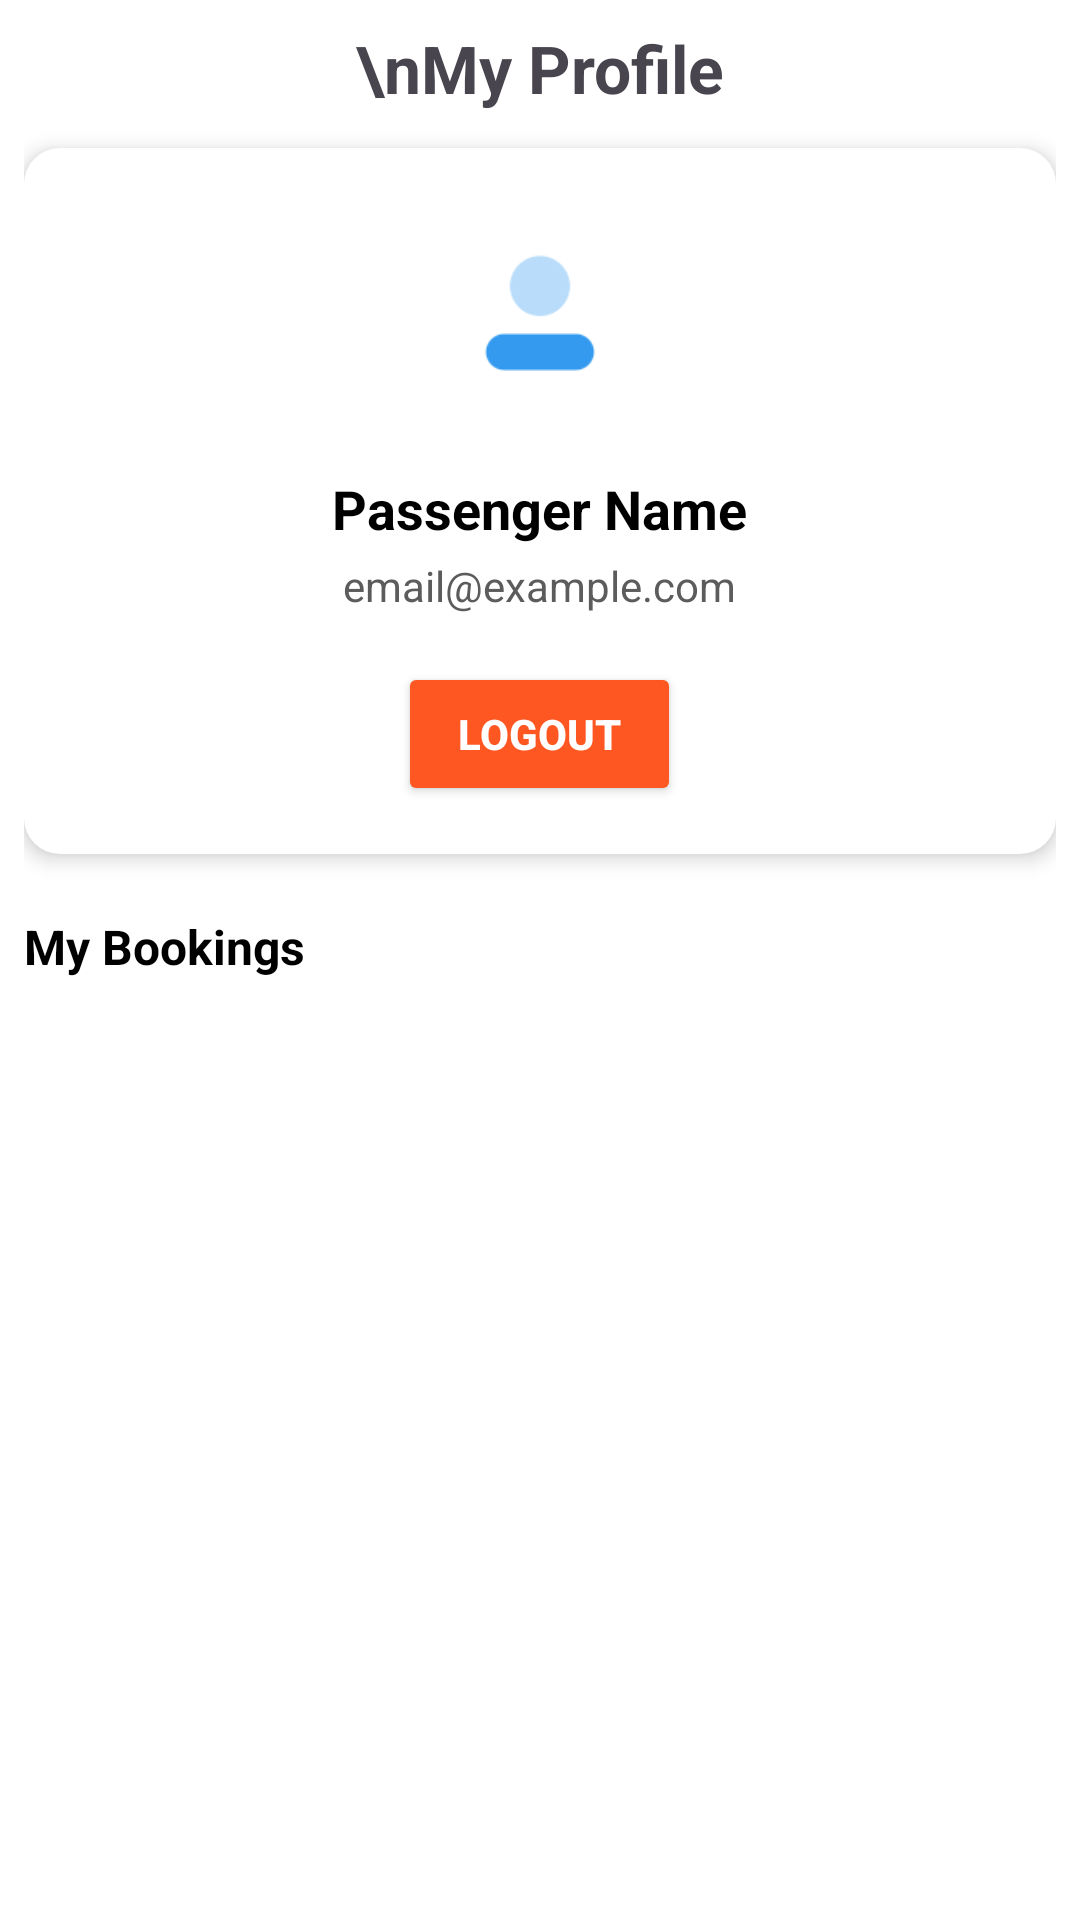

Where icons sit on this 1080px×1920px app screen, as (x1, y1, x2, y2):
user: (485, 256, 595, 371)
